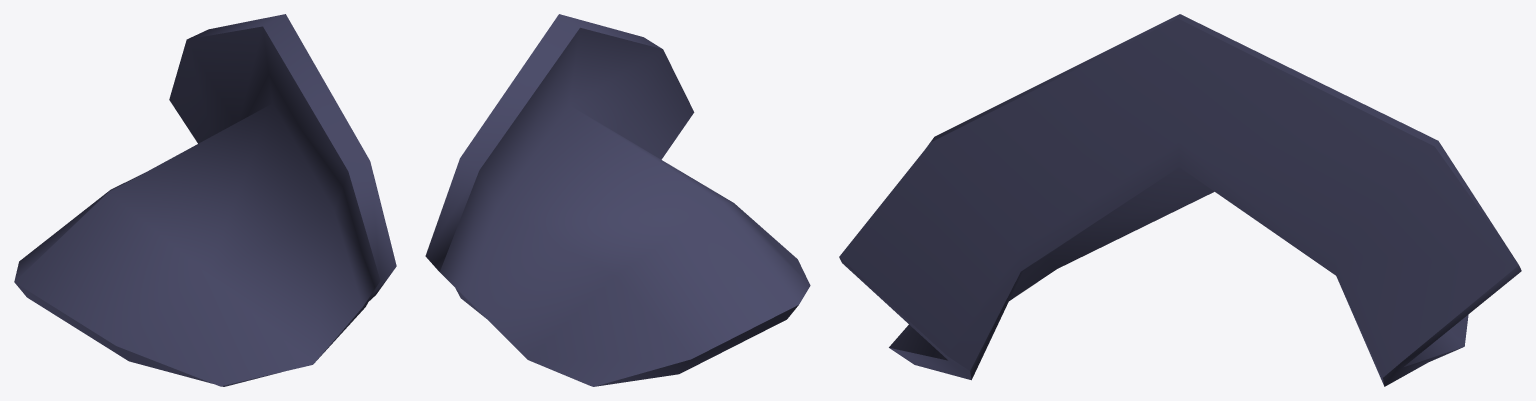
Rendered from Shoulder_1_R.fbx.
The picture shows the model from 3 angles, left to right: view 1: azimuth 30°, elevation 25°; view 2: azimuth 150°, elevation 25°; view 3: azimuth 270°, elevation 25°; orthographic projection. The views are drawn at different scales.
Visible parts, largest first — view 1: Shoulder_1_R; view 2: Shoulder_1_R; view 3: Shoulder_1_R.
Boxes of the visible parts, x1,y1,x2,y2 form: Shoulder_1_R: (14,14,396,386); Shoulder_1_R: (425,14,810,386); Shoulder_1_R: (839,14,1521,386).
Size of the model in its own units: 20.09 by 18.69 by 28.28.
